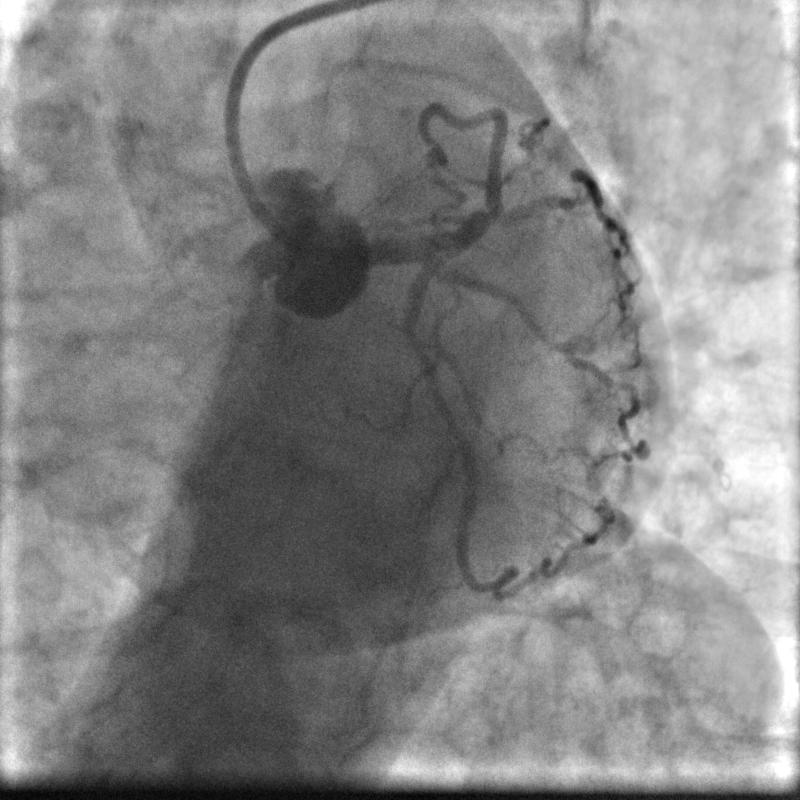Stenosis: (402, 326, 432, 368)
